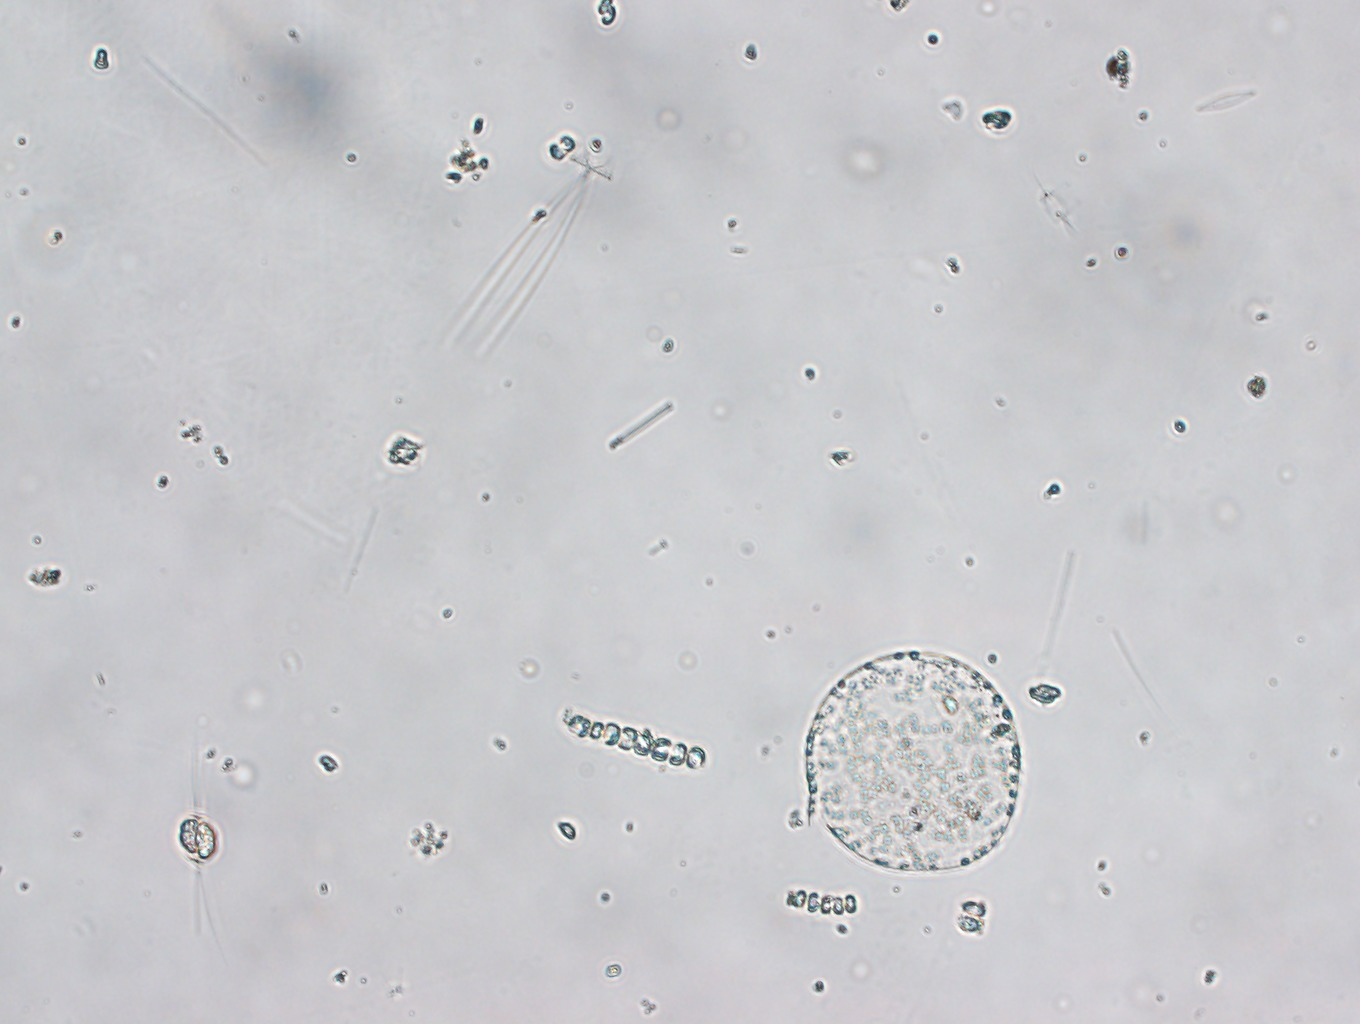coscinodiscus: (797, 650, 1032, 883)
